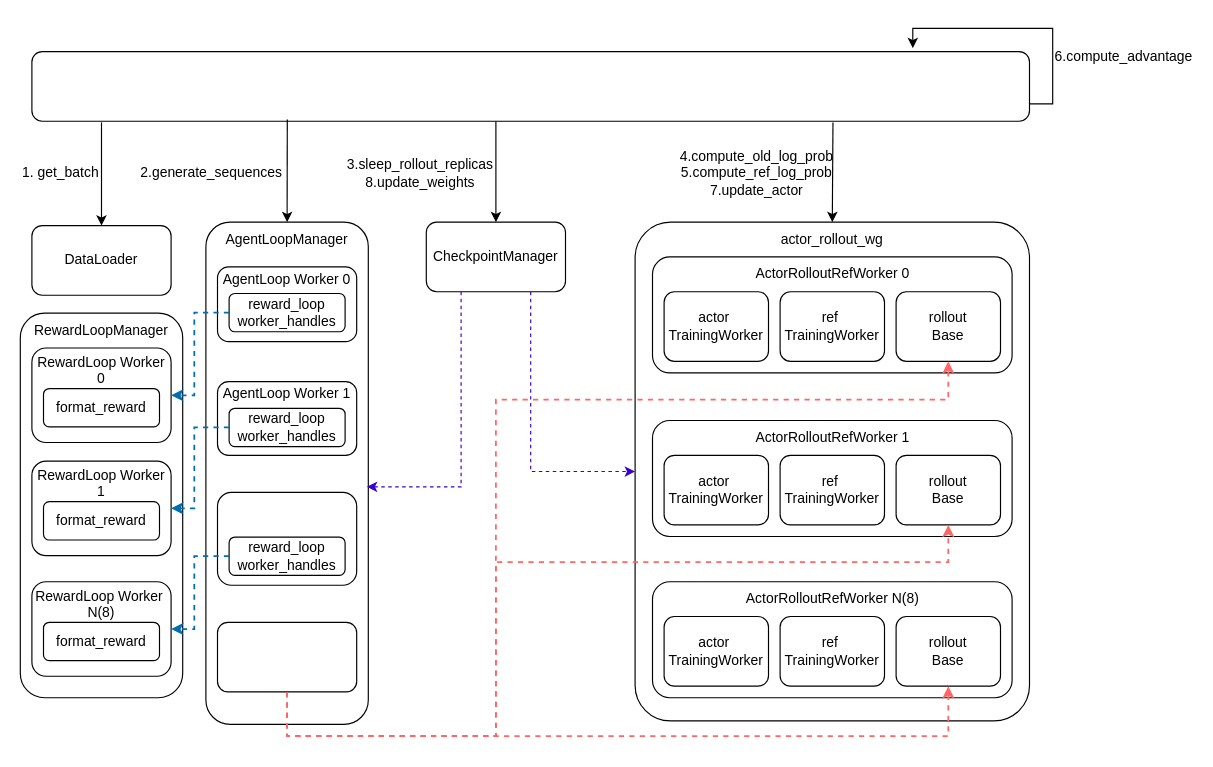
Some shapes in this 1213 by 767 pixel diagram are drawn without their labels. The box of each missing label's shape, as (x1, y1, x2, y2) in pixels:
AgentLoop Worker N(8): (216, 491, 357, 585)
RayPPOTrainer: (31, 50, 1030, 121)
Rollout Sever: (216, 621, 357, 692)
